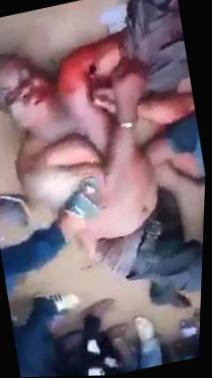Fire: (33, 31, 124, 104)
